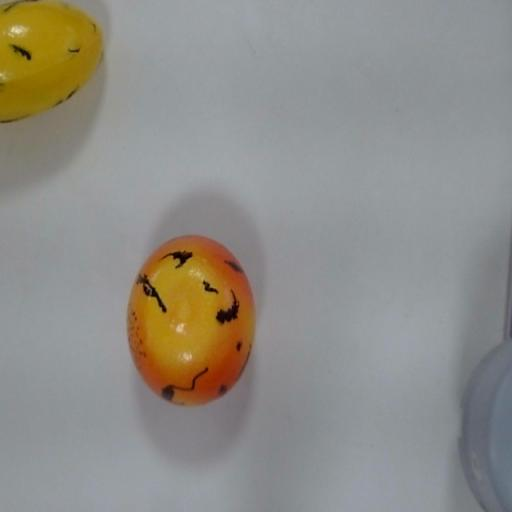Defective: (124, 234, 270, 417), (0, 1, 108, 140)
